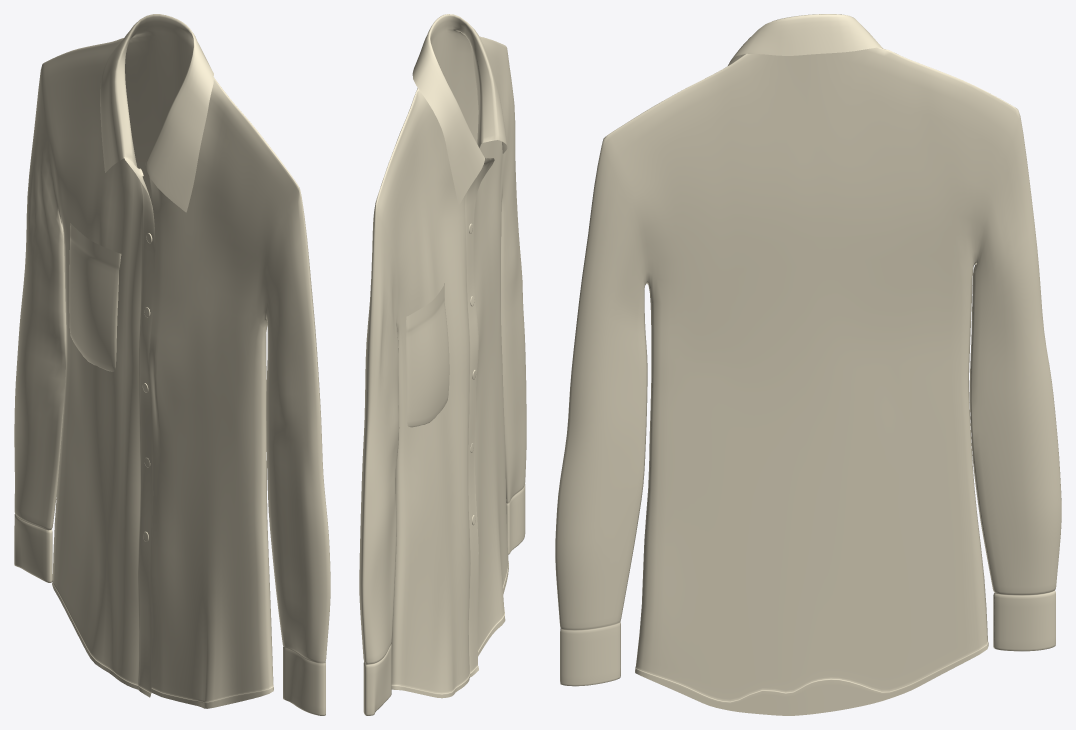
The picture shows the model from 3 angles, left to right: view 1: azimuth 30°, elevation 25°; view 2: azimuth 150°, elevation 25°; view 3: azimuth 270°, elevation 25°; orthographic projection. The views are drawn at different scales.
Visible parts, largest first — view 1: Shirt_shirt_02; view 2: Shirt_shirt_02; view 3: Shirt_shirt_02.
Boxes of the visible parts, x1,y1,x2,y2 form: Shirt_shirt_02: (14,14,330,715); Shirt_shirt_02: (359,14,526,715); Shirt_shirt_02: (555,14,1061,715).
Size of the model in its own units: 0.1083 by 0.7557 by 0.4936.
